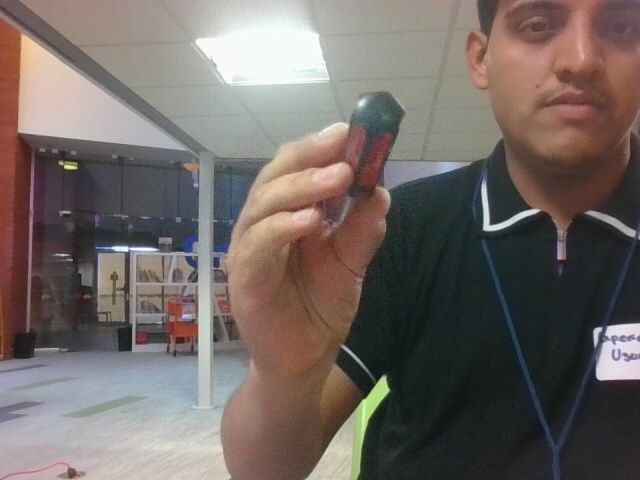destornillador: (322, 90, 406, 235)
